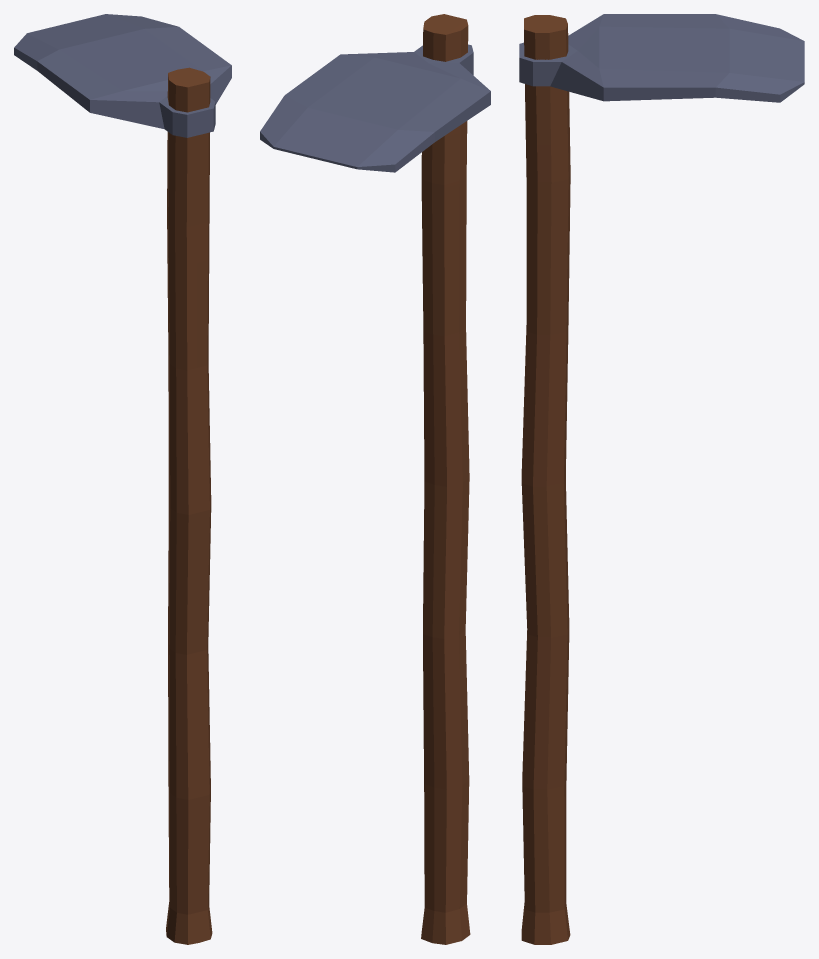
The model's file is hoe_iron.glb.
3 renders of one model, left to right at view 1: azimuth 30°, elevation 25°; view 2: azimuth 150°, elevation 25°; view 3: azimuth 270°, elevation 25°, orthographic. The views are drawn at different scales.
Parts seen in each view (by area): view 1: HoeV12; view 2: HoeV12; view 3: HoeV12.
Boxes of the visible parts, x1,y1,x2,y2 form: HoeV12: (14, 14, 231, 944); HoeV12: (260, 14, 490, 944); HoeV12: (519, 14, 804, 944).
Size of the model in its own units: 0.1634 by 0.9453 by 0.2675.
2 materials, 2 textured.
